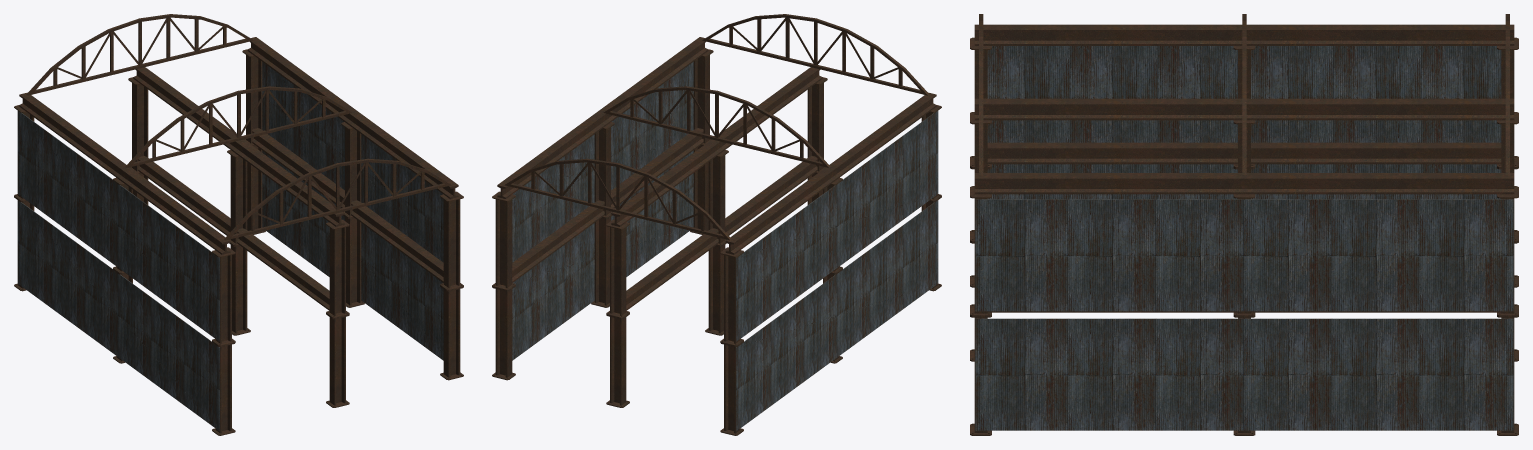
File: warehouse_hl_1.glb
3 views of the same model, side by side, from view 1: azimuth 30°, elevation 25°; view 2: azimuth 150°, elevation 25°; view 3: azimuth 270°, elevation 25° (orthographic). The views are drawn at different scales.
Parts seen in each view (by area): view 1: warehouse_hl_1; view 2: warehouse_hl_1; view 3: warehouse_hl_1.
Boxes of the visible parts, <box> form: warehouse_hl_1: <box>14,14,463,435</box>; warehouse_hl_1: <box>492,14,941,435</box>; warehouse_hl_1: <box>970,14,1518,435</box>.
Size of the model in its own units: 8.6 by 8.02 by 12.5.
2 materials, 2 textured.
